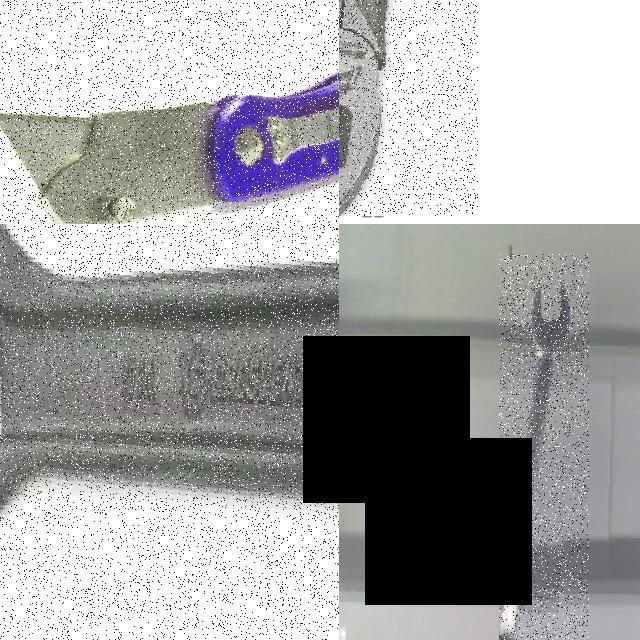estilete: (2, 74, 340, 222)
